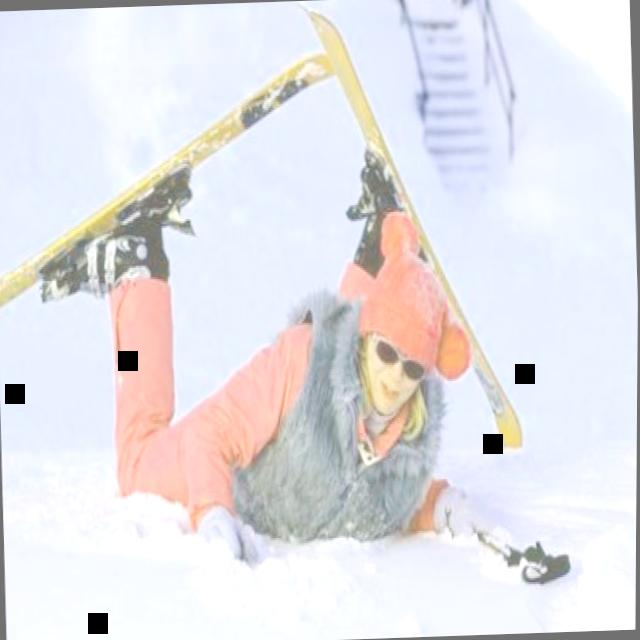Fall-Detected: (10, 117, 552, 596)
